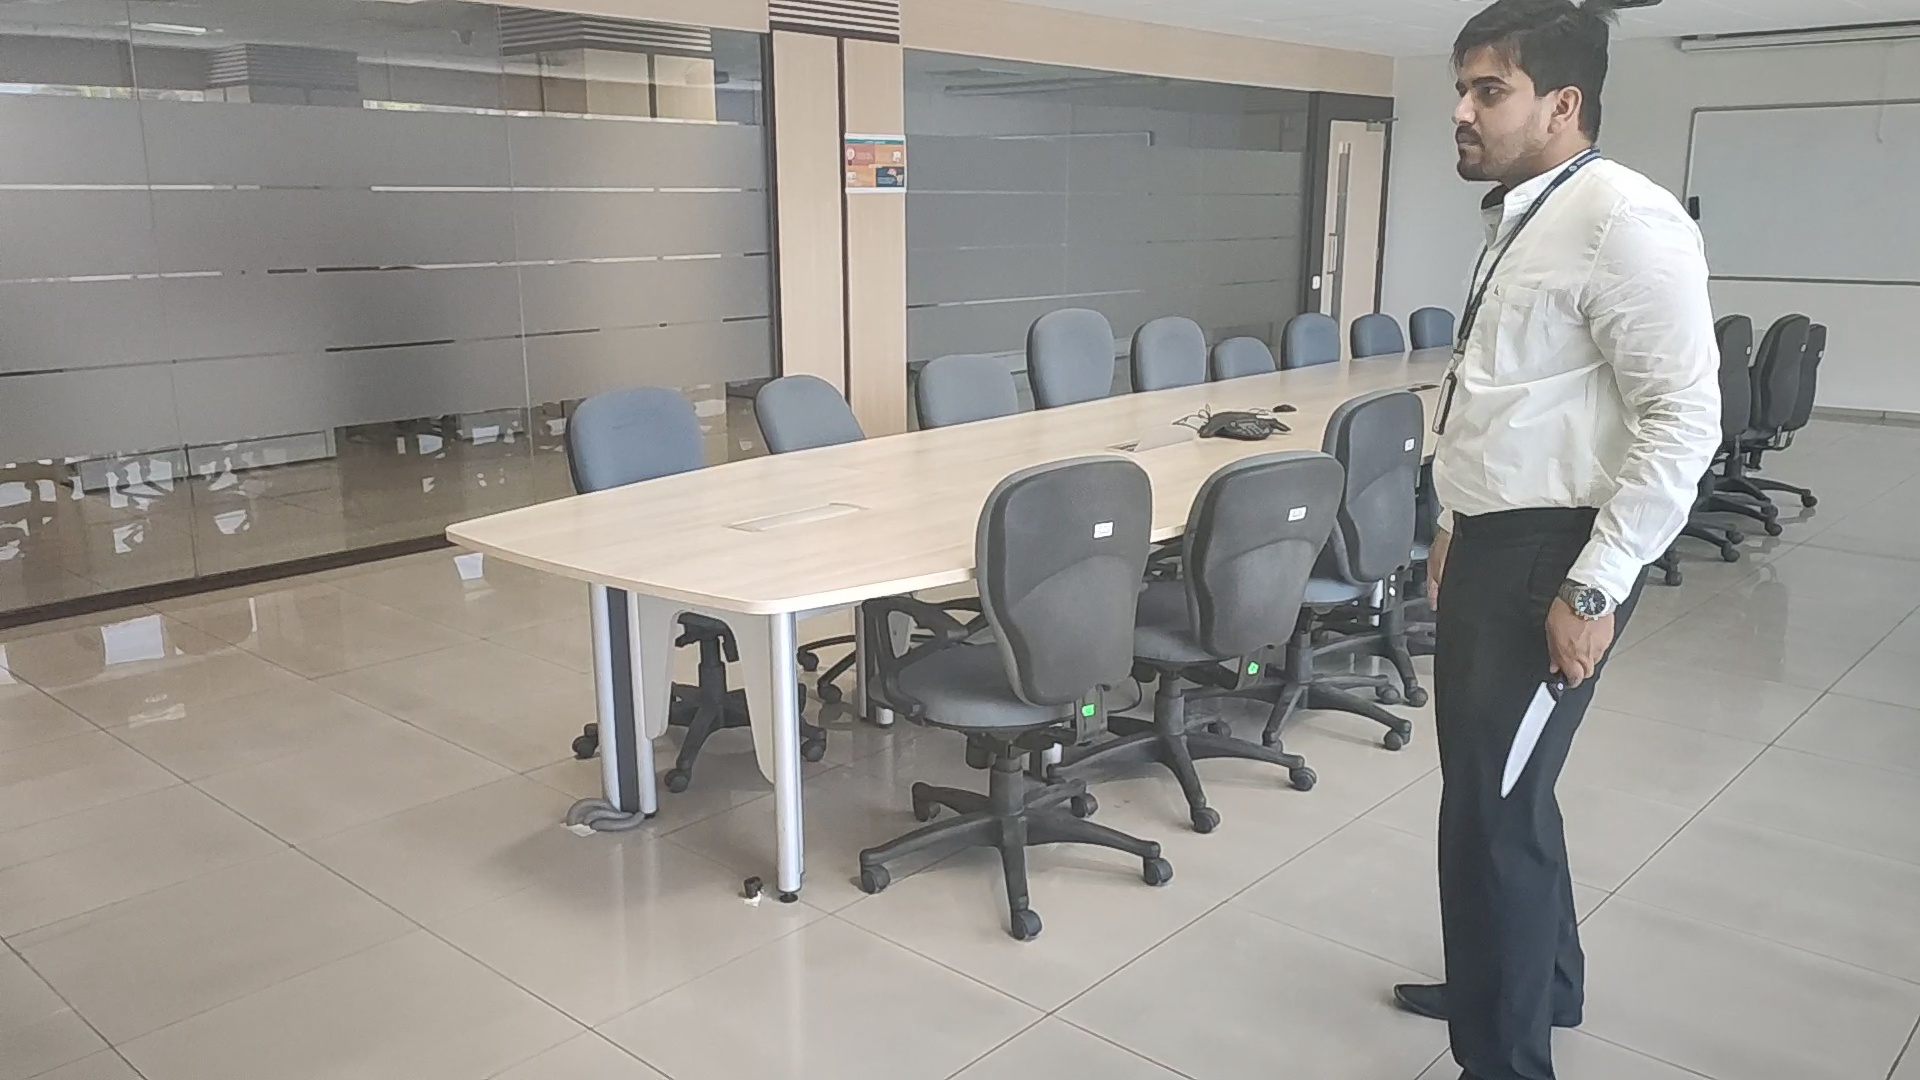knife: (1498, 688, 1553, 799)
